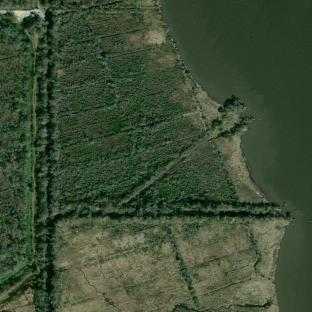Floresta: (0, 16, 277, 312), (0, 0, 0, 0)
